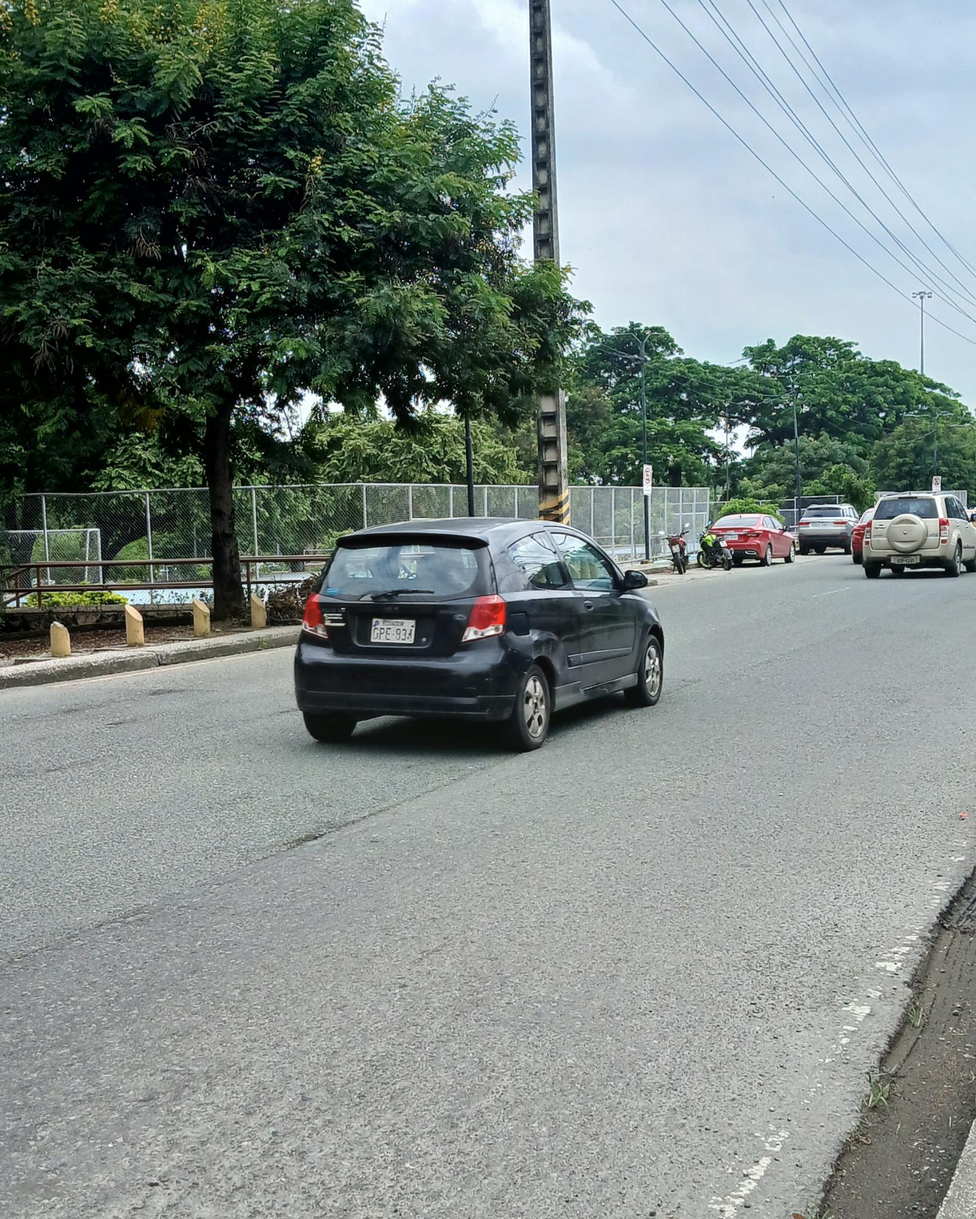license_plate: (369, 619, 417, 643), (890, 555, 919, 564), (807, 522, 833, 528), (722, 534, 738, 540)
